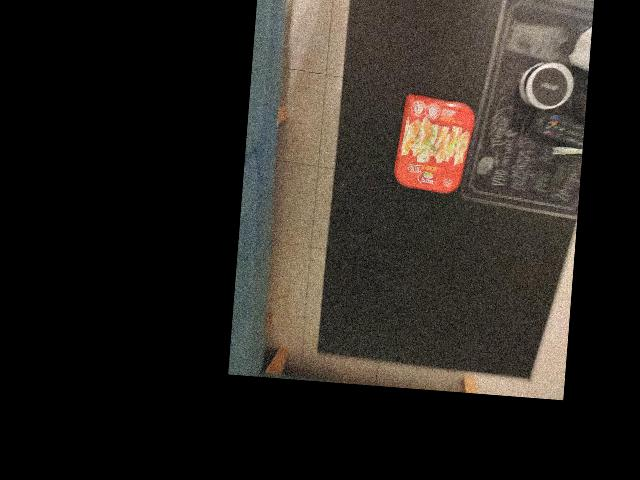cheese: (388, 82, 473, 193)
